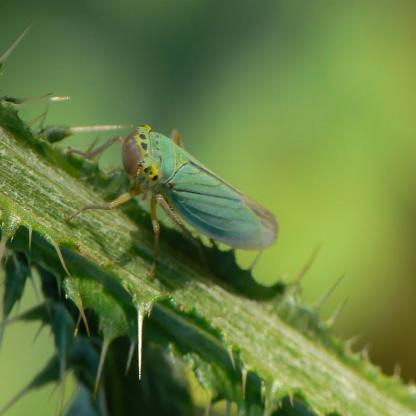Green-Leafhopper: (80, 112, 286, 281)
